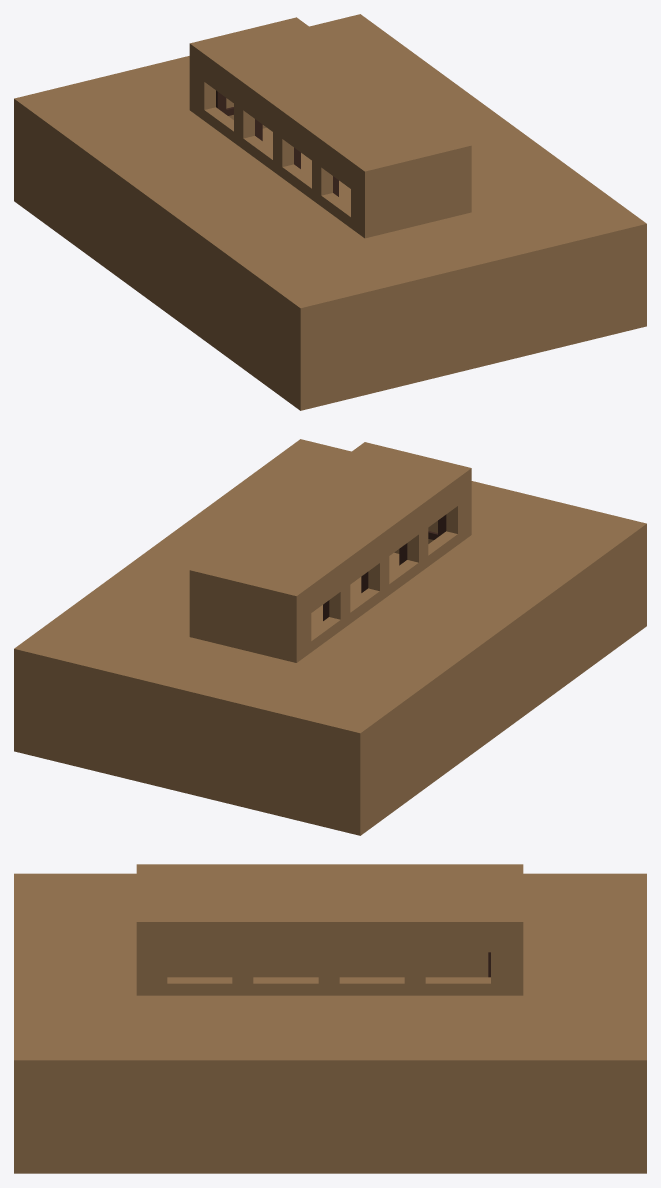
Rendered from Hall.fbx.
The picture shows the model from 3 angles, top to bottom: view 1: azimuth 30°, elevation 25°; view 2: azimuth 150°, elevation 25°; view 3: azimuth 270°, elevation 25°; orthographic projection. The views are drawn at different scales.
Parts seen in each view (by area): view 1: Cube; view 2: Cube, Cube.001; view 3: Cube.
Part boxes in pixels (x1,y1,x2,y2): Cube: (14, 14, 646, 410); Cube: (14, 439, 646, 835); Cube.001: (323, 514, 446, 620); Cube: (14, 864, 646, 1173).
Bounding box in the file's own units: 349 × 163 × 499.
